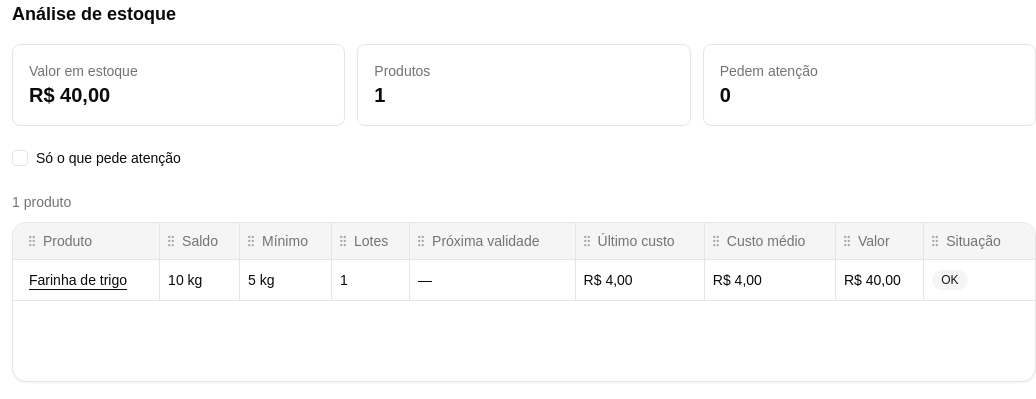
StockPositionPage › says nothing needs attention instead of showing a bare table
Click the checkbox named "Só o que pede atenção": (20, 158) [12,150,28,166]
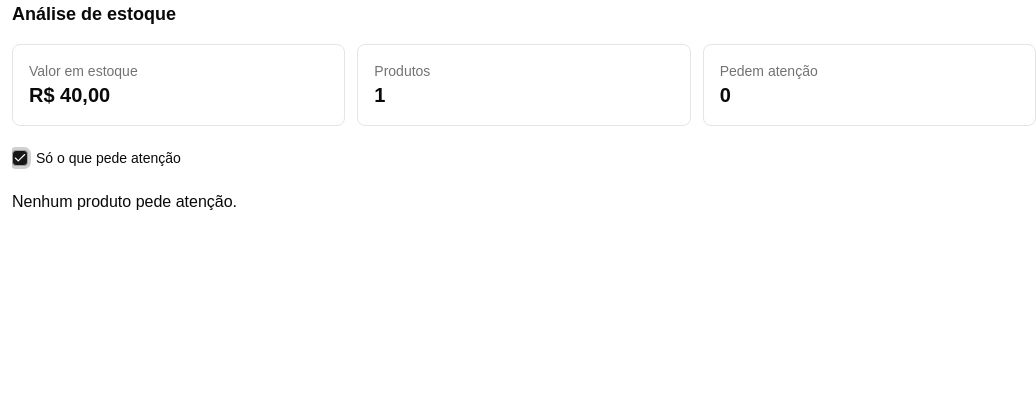
Now the text "Nenhum produto pede atenção." is shown, box [12,193,237,210]
